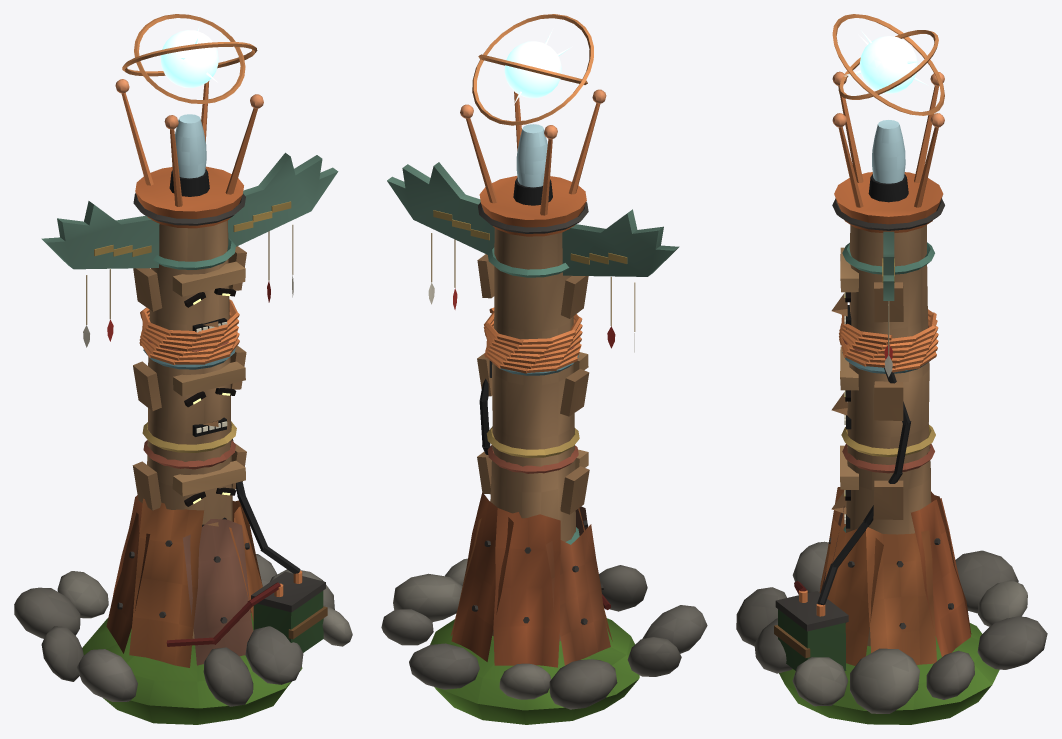
File: tesla_totem.glb
3 views of the same model, side by side, from view 1: azimuth 30°, elevation 25°; view 2: azimuth 150°, elevation 25°; view 3: azimuth 270°, elevation 25° (orthographic).
Parts seen in each view (by area): view 1: Body.002, Rings, Orb; view 2: Body.002, Orb, Rings; view 3: Body.002, Orb, Rings.
Boxes of the visible parts, x1,y1,x2,y2 form: Body.002: (14,79,352,724); Rings: (122,14,257,103); Orb: (160,25,218,87); Body.002: (381,89,707,724); Orb: (504,28,572,104); Rings: (472,14,593,125); Body.002: (736,71,1047,724); Orb: (844,30,928,93); Rings: (832,14,944,115).
Bounding box in the file's own units: 1.84 × 4.1 × 1.71.
